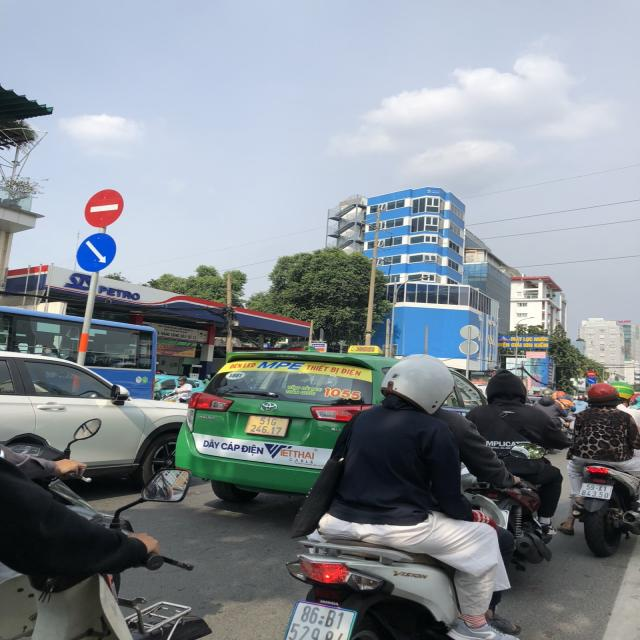Bien bao cam di nguoc chieu: (78, 185, 127, 229)
